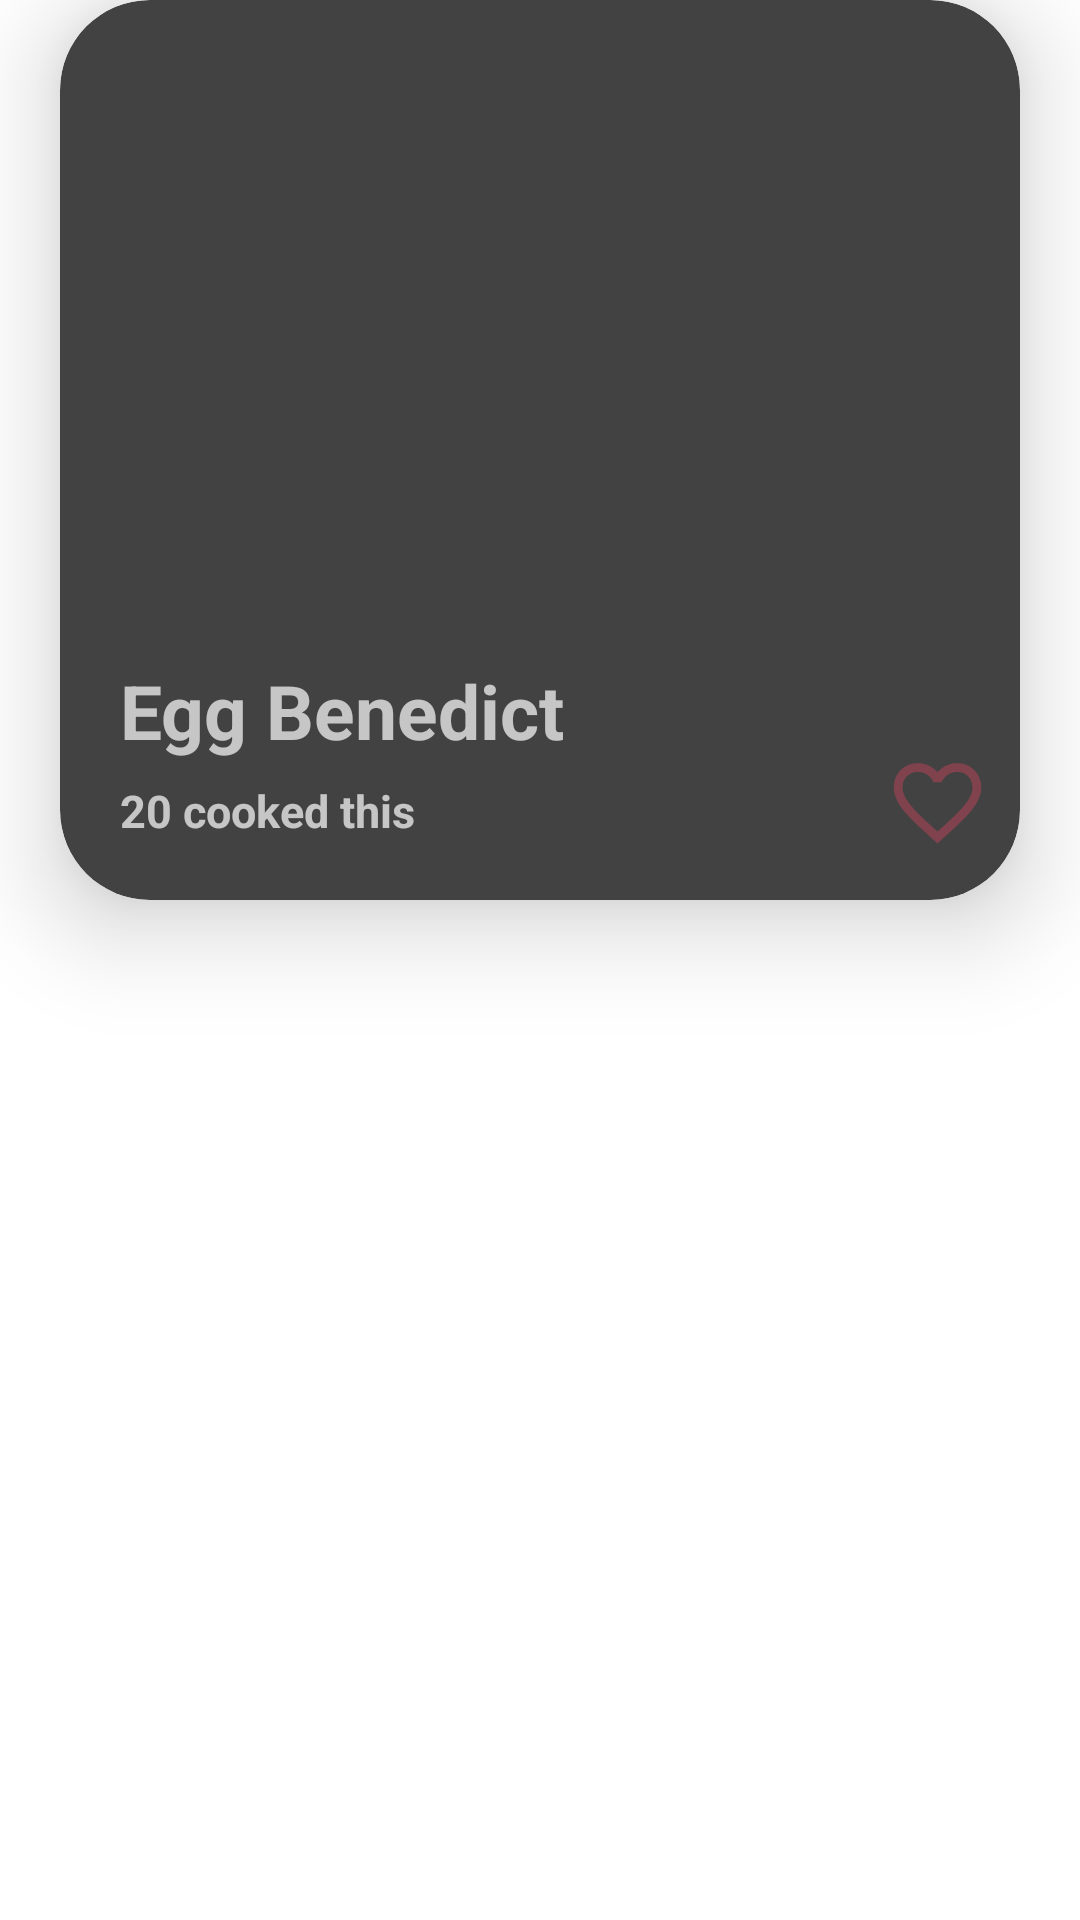

Icon click points for this 1080px x 1920px phone screenshot, format (x=x, y=y):
favorite border: (x=937, y=803)
